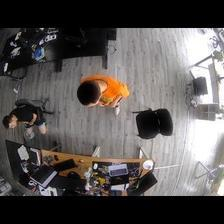normal: (2, 95, 56, 140), (75, 71, 128, 114)
